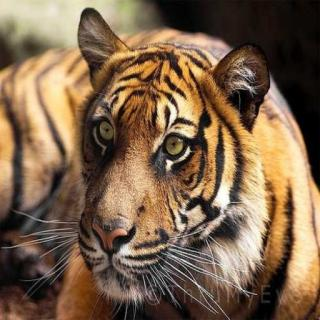Tiger: (0, 11, 320, 313)
